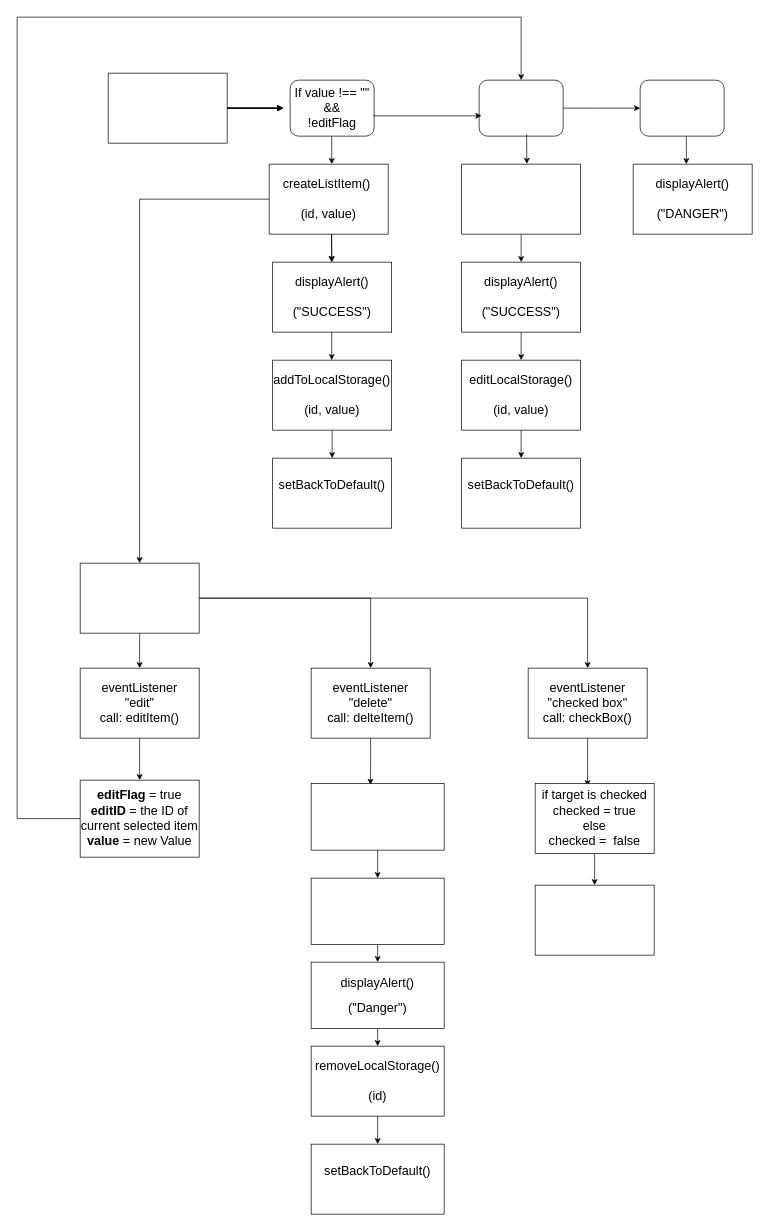
The diagram is 764 pixels wide and 1226 high, and some of its shapes have lost their labels. Here are the shapes that lost their labels. From the top down, the centre of each, then its label:
point (167, 107): eventListener "submit" call: addItem
point (520, 107): If value !== "" && editFlag
point (681, 107): else
point (521, 198): edits innerHTML with new Value
point (139, 597): Creates the HTML
point (377, 816): removeChild(element)
point (377, 911): if list === 0 then hide the container.classList
point (594, 919): editLocalStorage1 (id, value, check)
